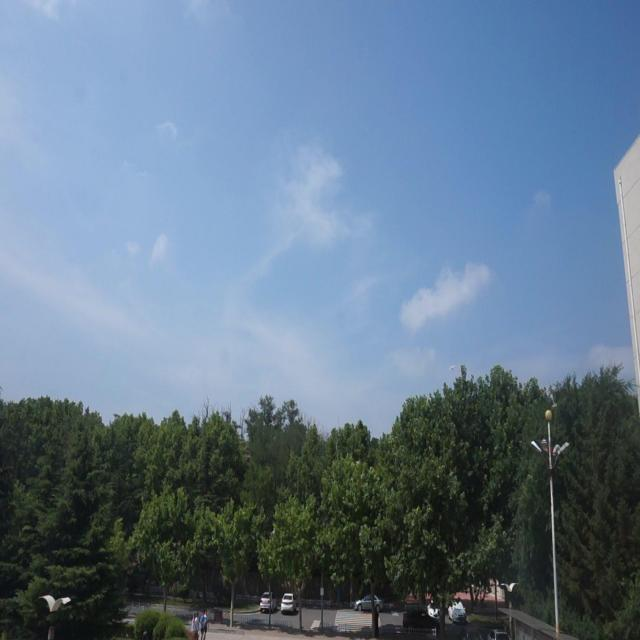UAV: (449, 365, 456, 370)
